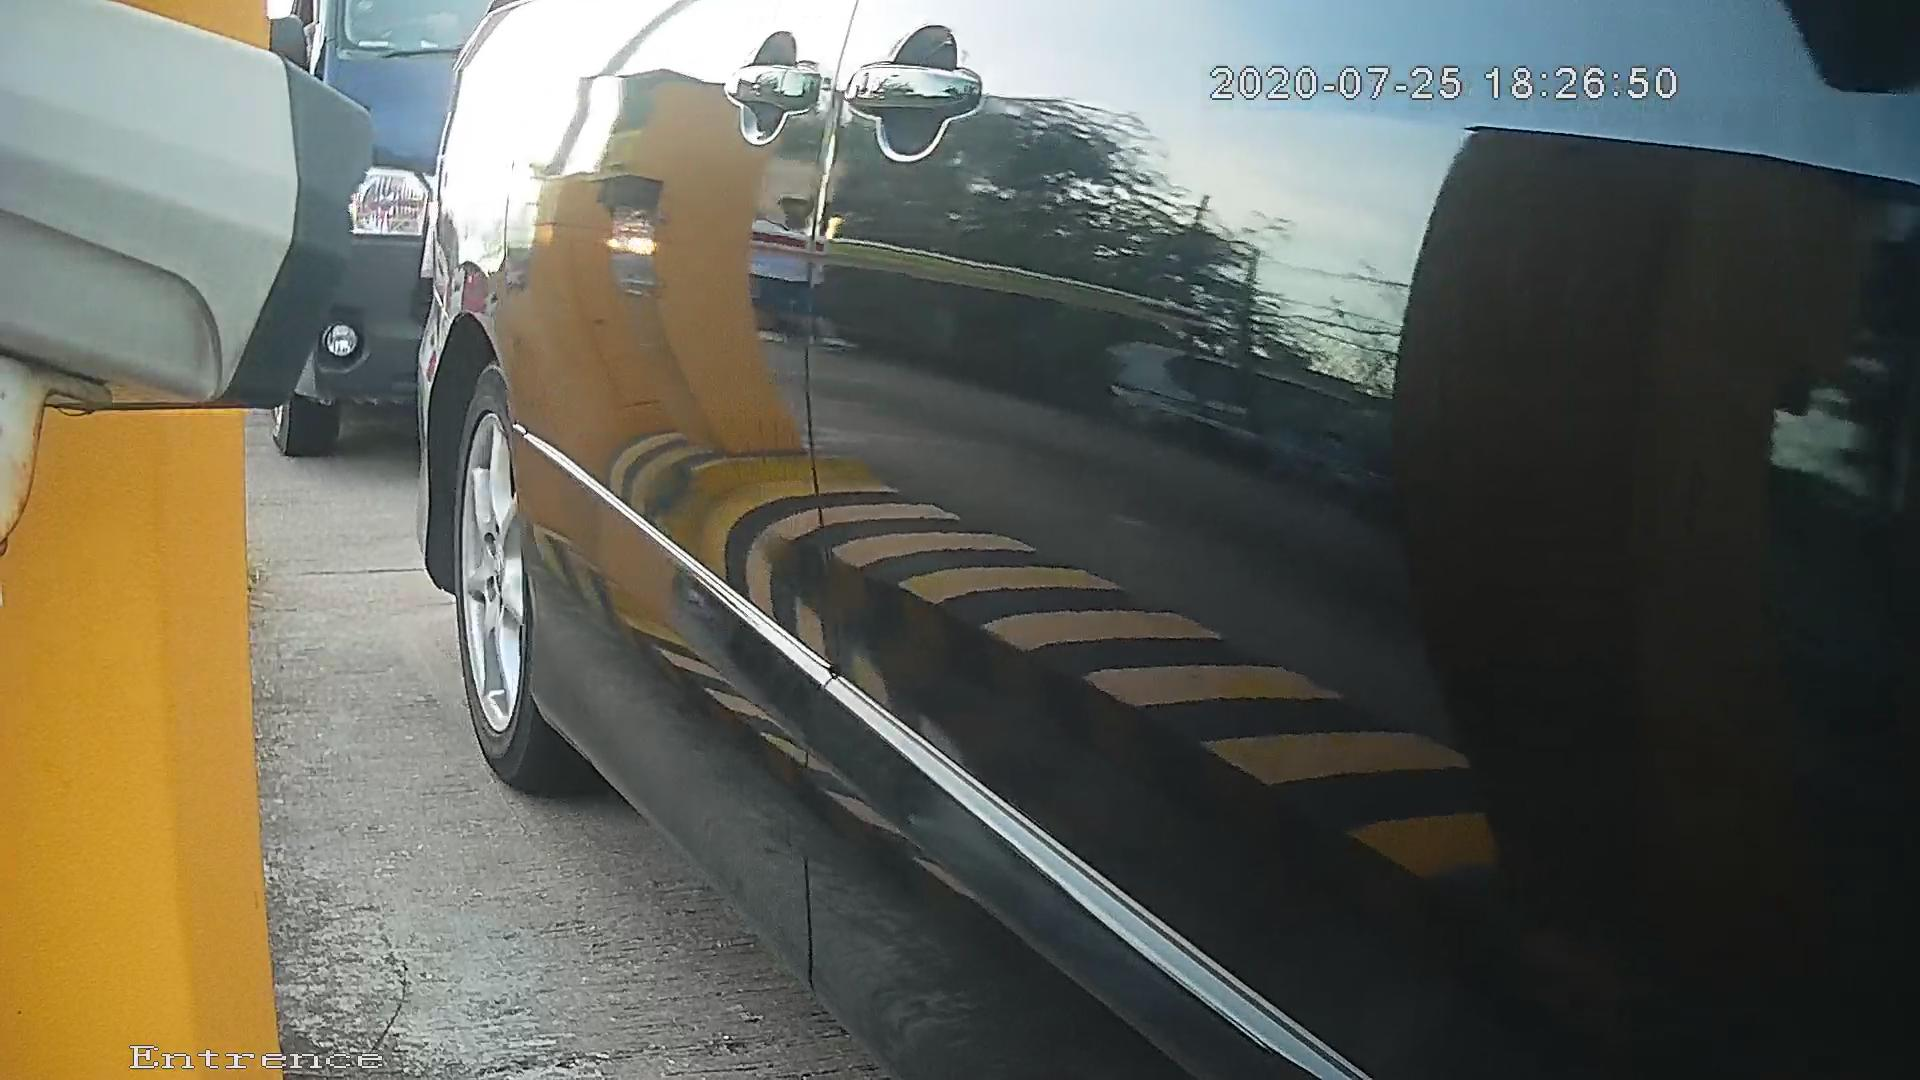Car: (421, 20, 1809, 1047)
